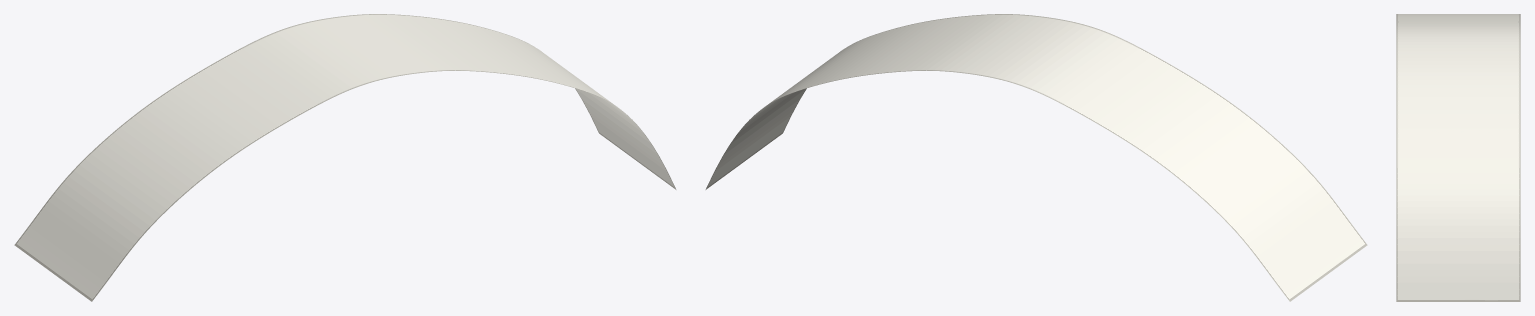
File: ceiling.obj
The picture shows the model from 3 angles, left to right: view 1: azimuth 30°, elevation 25°; view 2: azimuth 150°, elevation 25°; view 3: azimuth 270°, elevation 25°; orthographic projection. The views are drawn at different scales.
Parts seen in each view (by area): view 1: Plane_Plane.002; view 2: Plane_Plane.002; view 3: Plane_Plane.002.
Boxes of the visible parts, <box> form: Plane_Plane.002: <box>14,14,676,301</box>; Plane_Plane.002: <box>705,14,1367,301</box>; Plane_Plane.002: <box>1396,14,1520,301</box>.
Bounding box in the file's own units: 6.52 × 1.95 × 1.5.
1 material, 1 textured.
